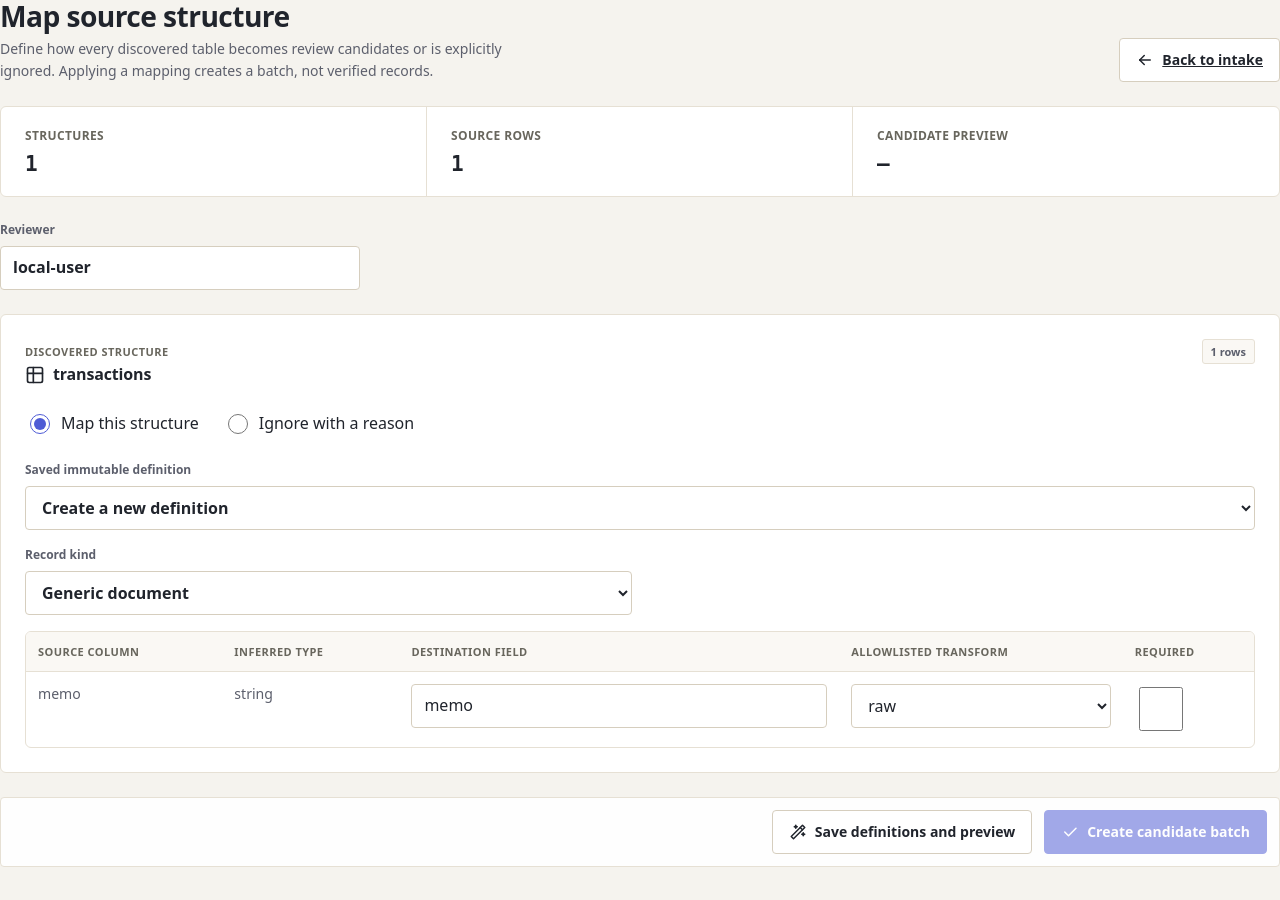
MappingWorkspace › clears an incompatible saved selection when a stale reload returns a replacement schema
Select "Generic document · v1 · mapping-" in the dropdown labelled "Saved immutable definition": (640,508) [25,486,1255,530]
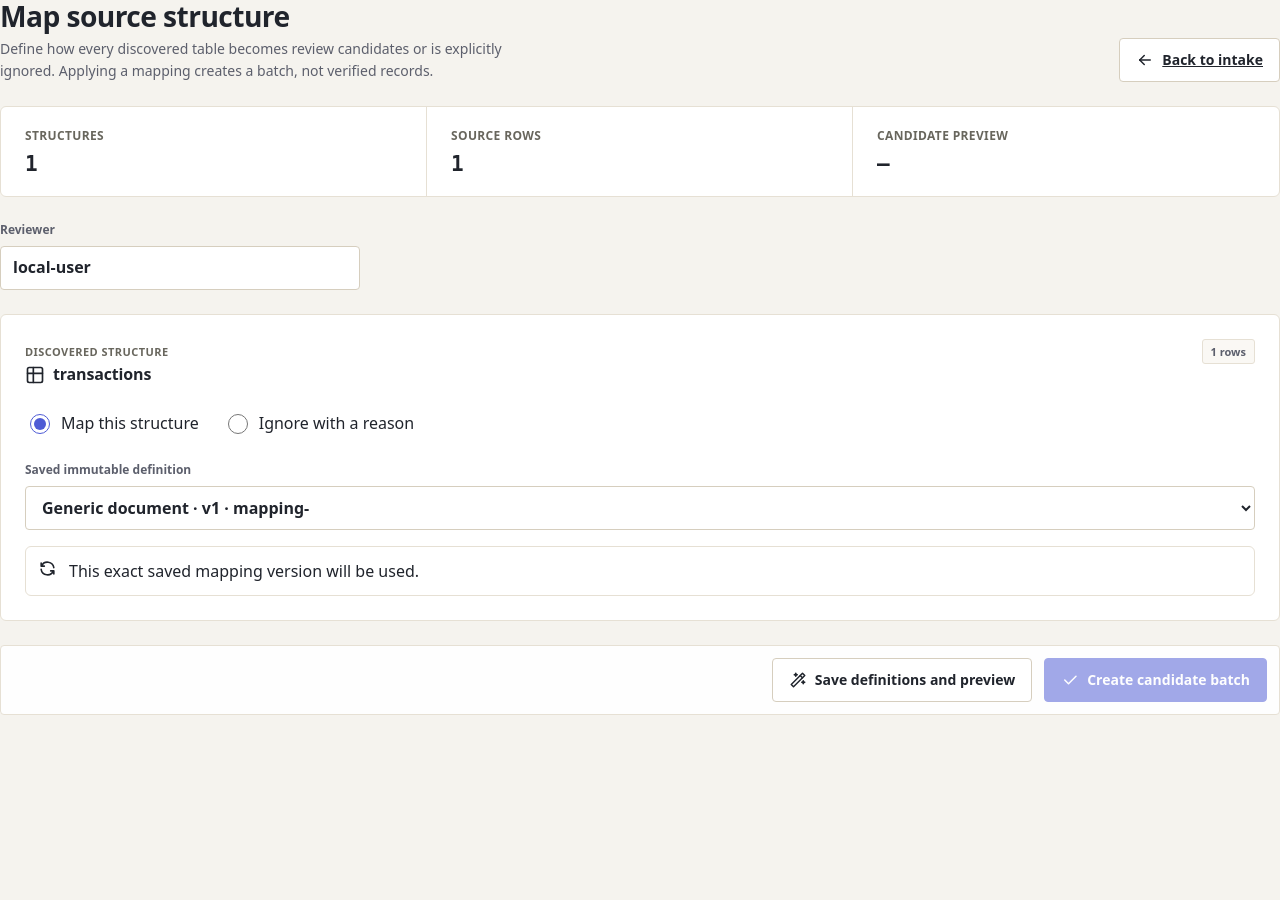
Click the button "Save definitions and preview": (902,680) [772,658,1032,702]
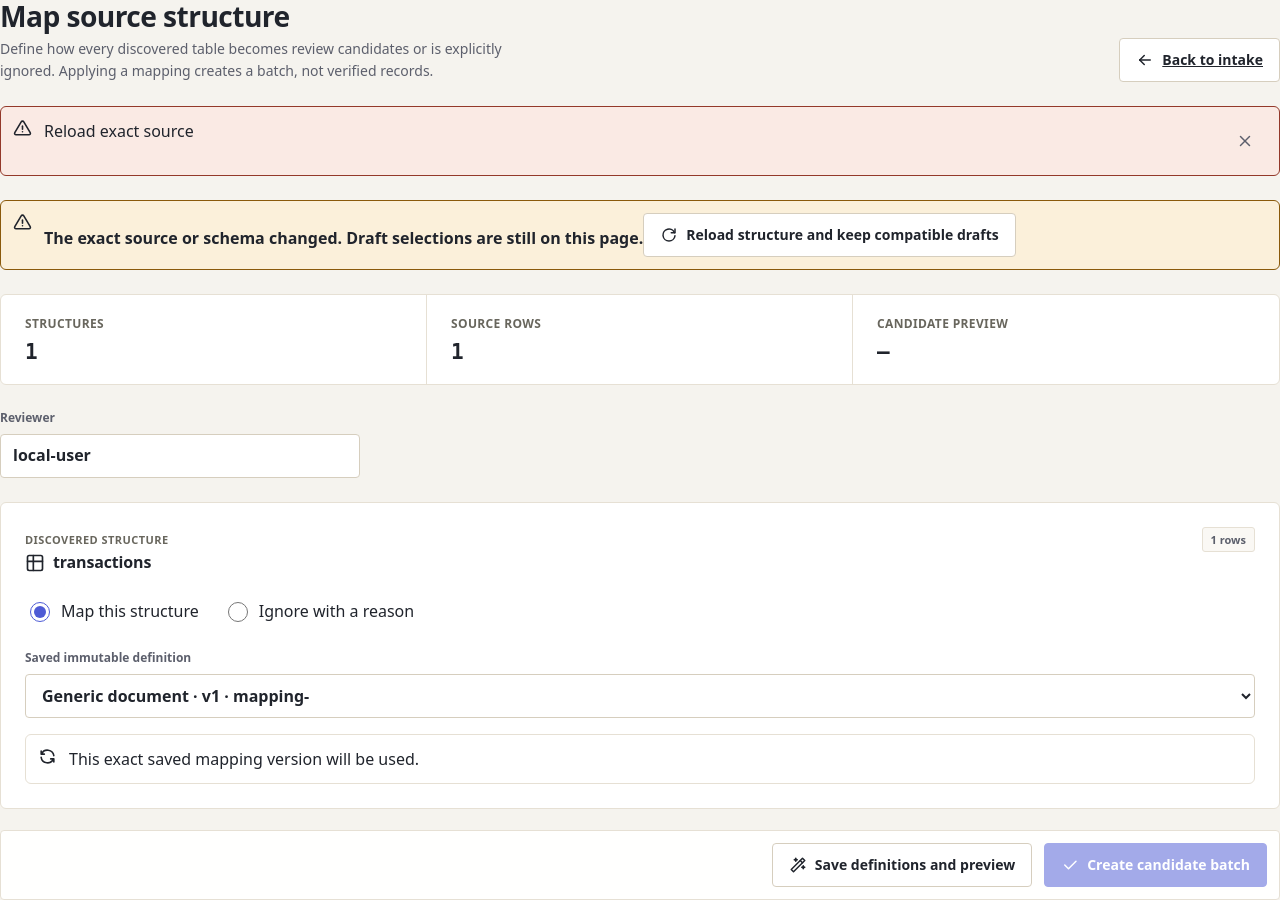
Click the button "Reload structure and keep compatible drafts": (829,235) [643,213,1016,257]
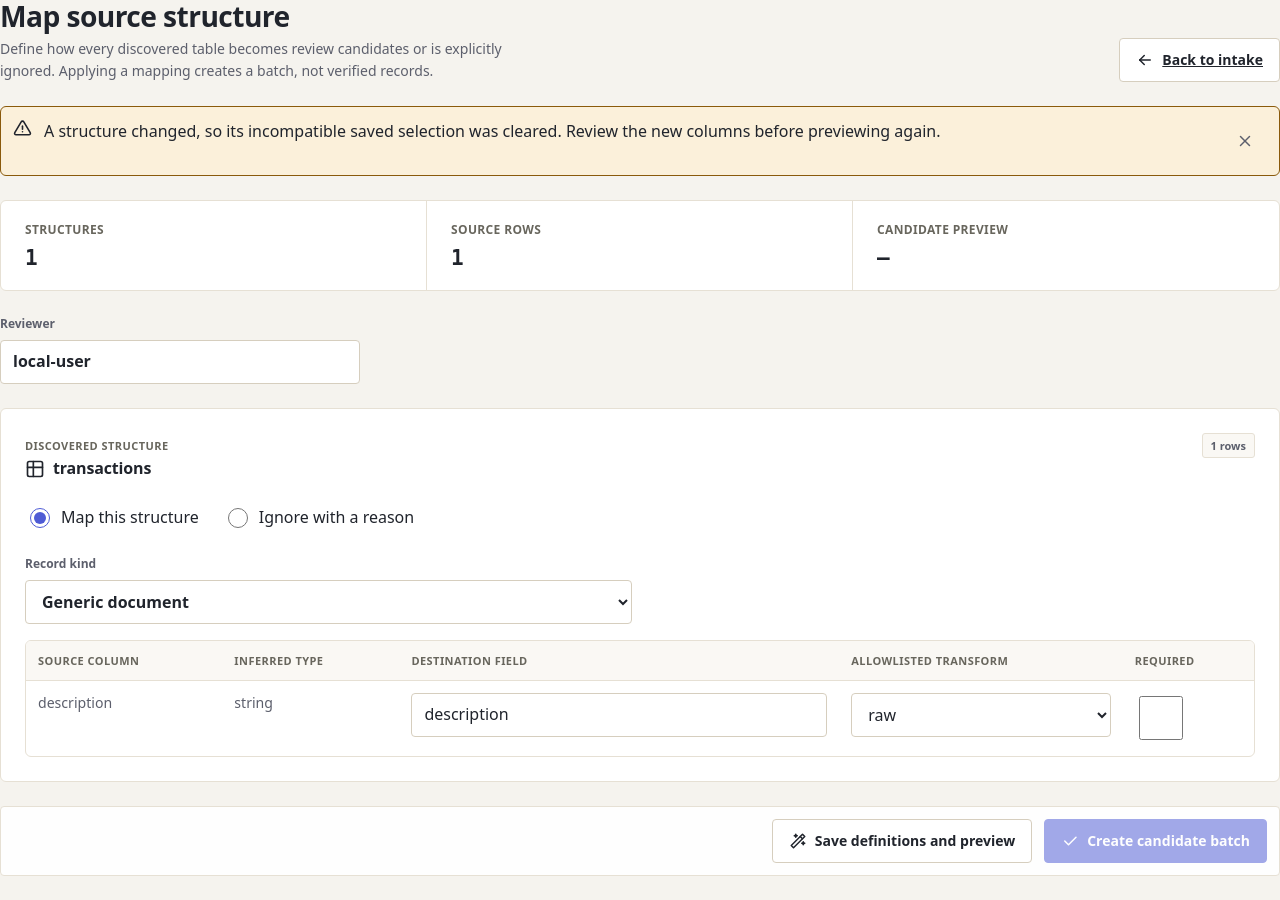
Check: the field named "Destination field for description" holds "description", box [411,693,827,737]
Check: the text "incompatible saved selection was cleared" is shown, box [44,120,940,142]
